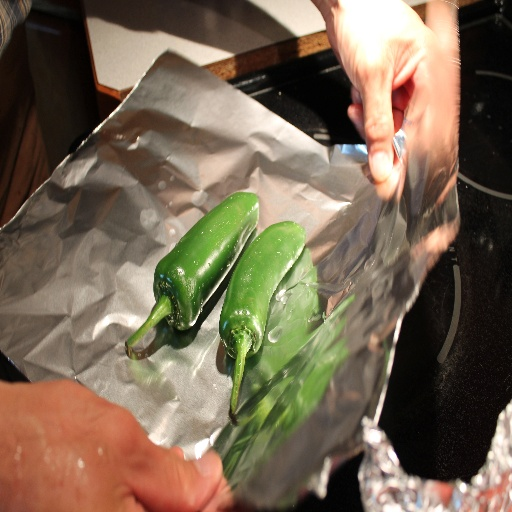hand: (0, 377, 222, 511), (324, 0, 448, 183)
